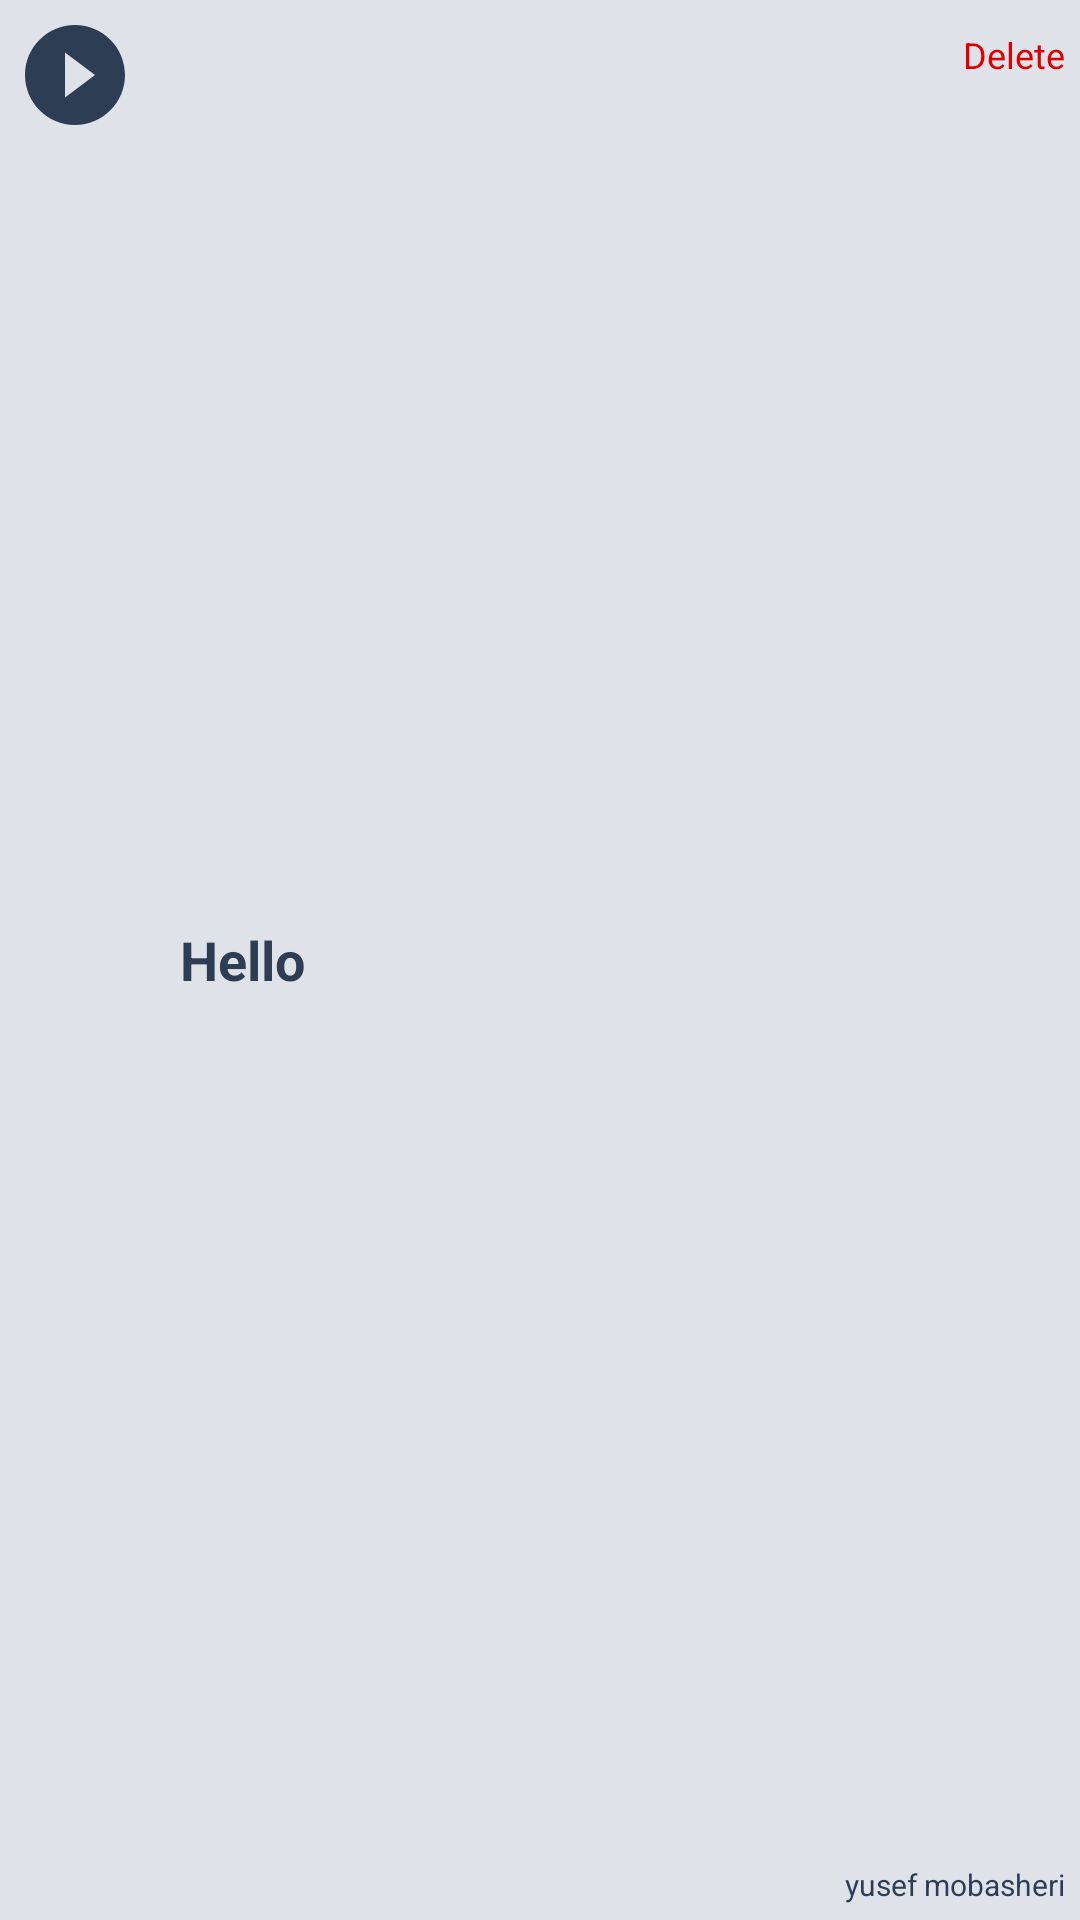

Point at icon controls on the screen. Image size 1080px×1920px, points as (x=x, y=y).
play circle: (x=75, y=75)
